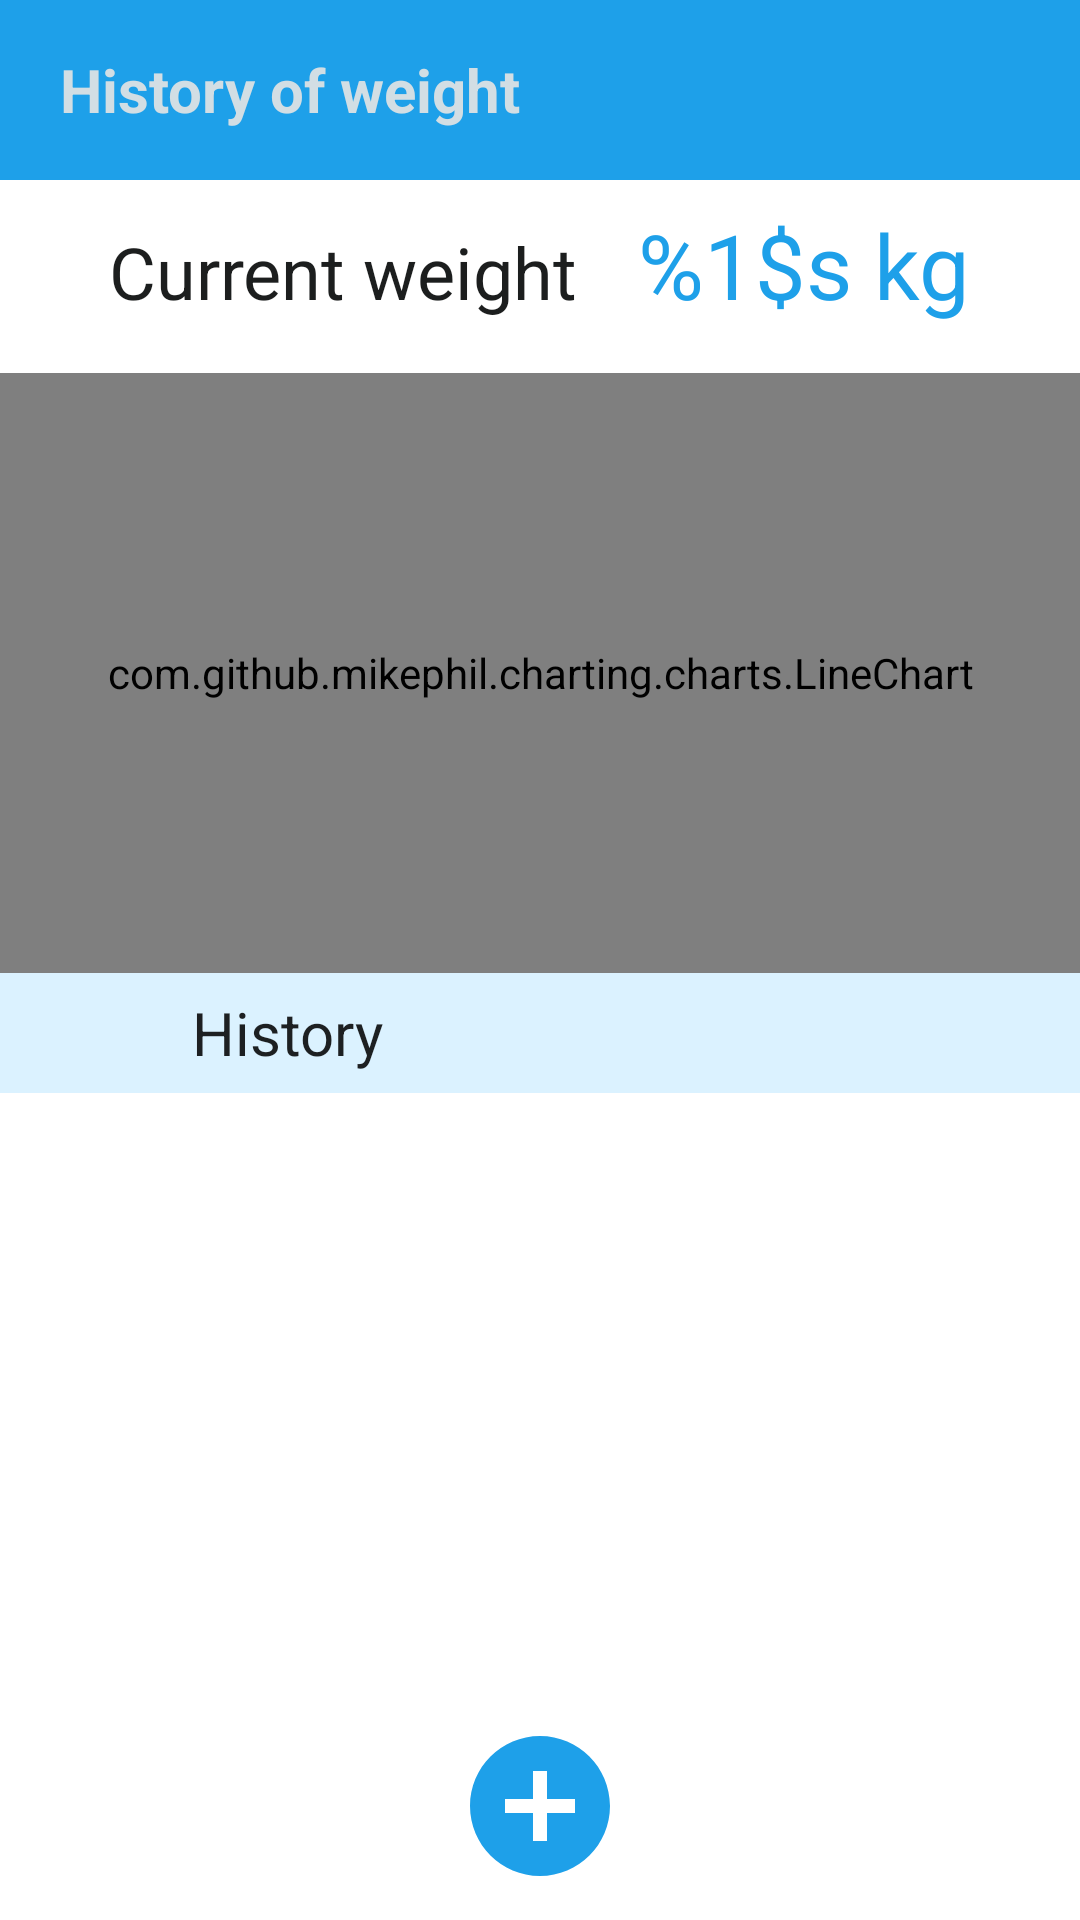

Icons on this 1080 × 1920 Android screen, each with the point to tap as (x,y):
Add weighing: (540,1806)
